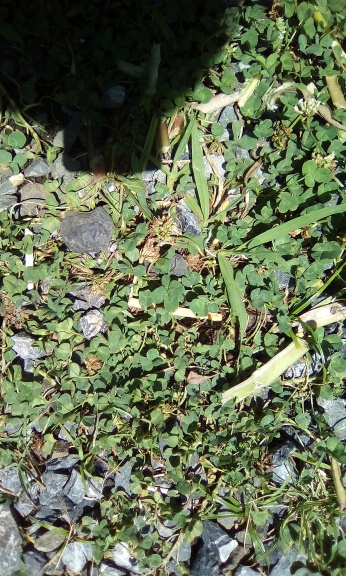4leaf: (150, 275, 184, 313)
